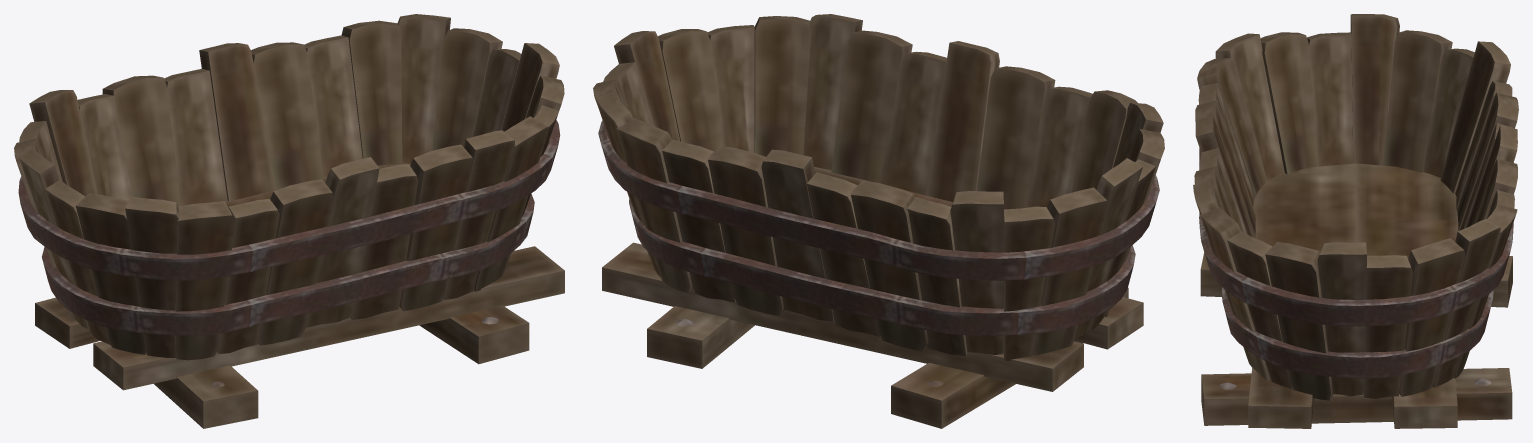
The model's file is comfort2_t1_bathroomtub.glb.
3 renders of one model, left to right at view 1: azimuth 30°, elevation 25°; view 2: azimuth 150°, elevation 25°; view 3: azimuth 270°, elevation 25°, orthographic. The views are drawn at different scales.
Parts seen in each view (by area): view 1: global_props_roughwood_bathroom_bathtub_01_a; view 2: global_props_roughwood_bathroom_bathtub_01_a; view 3: global_props_roughwood_bathroom_bathtub_01_a.
Boxes of the visible parts, x1,y1,x2,y2 form: global_props_roughwood_bathroom_bathtub_01_a: (14,14,564,428); global_props_roughwood_bathroom_bathtub_01_a: (593,14,1164,428); global_props_roughwood_bathroom_bathtub_01_a: (1193,14,1518,428).
Size of the model in its own units: 1.94 by 0.8491 by 1.11.
2 materials, 2 textured.
